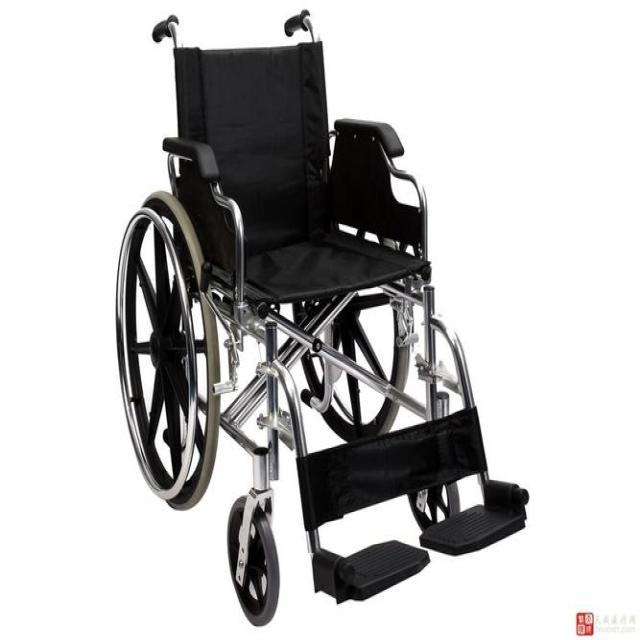wheelchairs: (99, 2, 536, 632)
